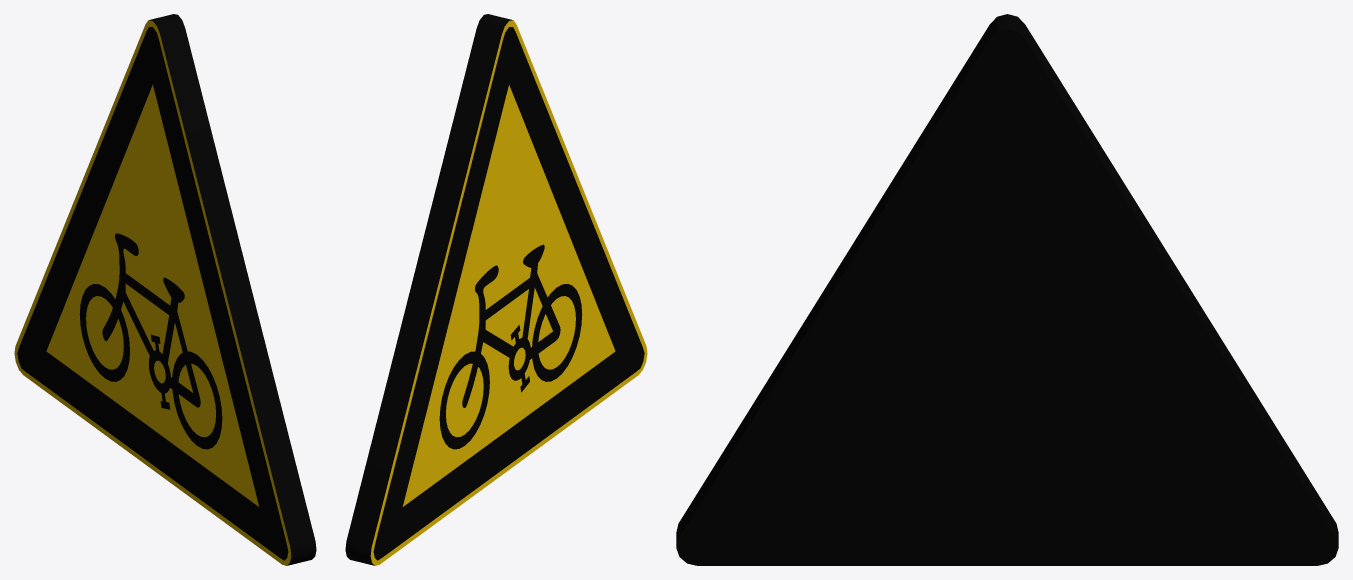
The model's file is Pay_Attention_To_NonMotorVehicle.fbx.
The picture shows the model from 3 angles, left to right: view 1: azimuth 30°, elevation 25°; view 2: azimuth 150°, elevation 25°; view 3: azimuth 270°, elevation 25°; orthographic projection. The views are drawn at different scales.
Parts seen in each view (by area): view 1: Pay_Attention_To_NonMotorVehicle; view 2: Pay_Attention_To_NonMotorVehicle; view 3: Pay_Attention_To_NonMotorVehicle.
Part boxes in pixels (box(x1,y1,x2,y2)): Pay_Attention_To_NonMotorVehicle: box(14, 14, 316, 565); Pay_Attention_To_NonMotorVehicle: box(345, 14, 647, 565); Pay_Attention_To_NonMotorVehicle: box(676, 14, 1338, 565).
Size of the model in its own units: 0.0643 by 1.02 by 1.14.
